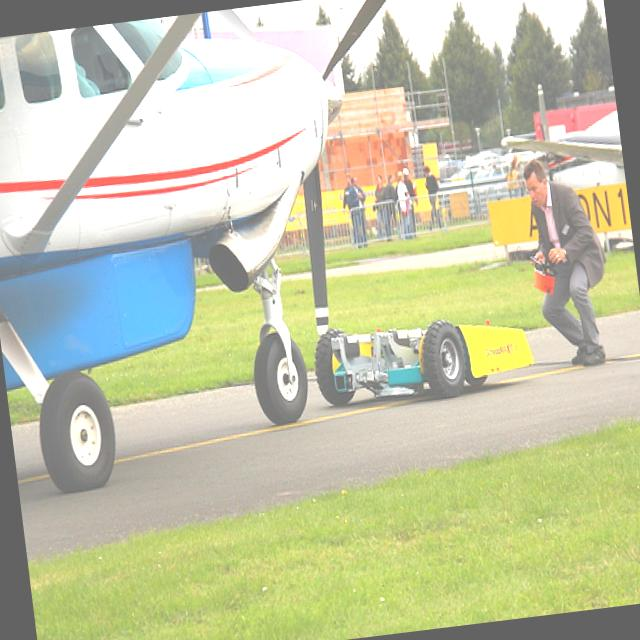Vehicle: (484, 147, 534, 167), (439, 165, 482, 183), (472, 162, 512, 178), (438, 158, 467, 180), (466, 151, 498, 169)
